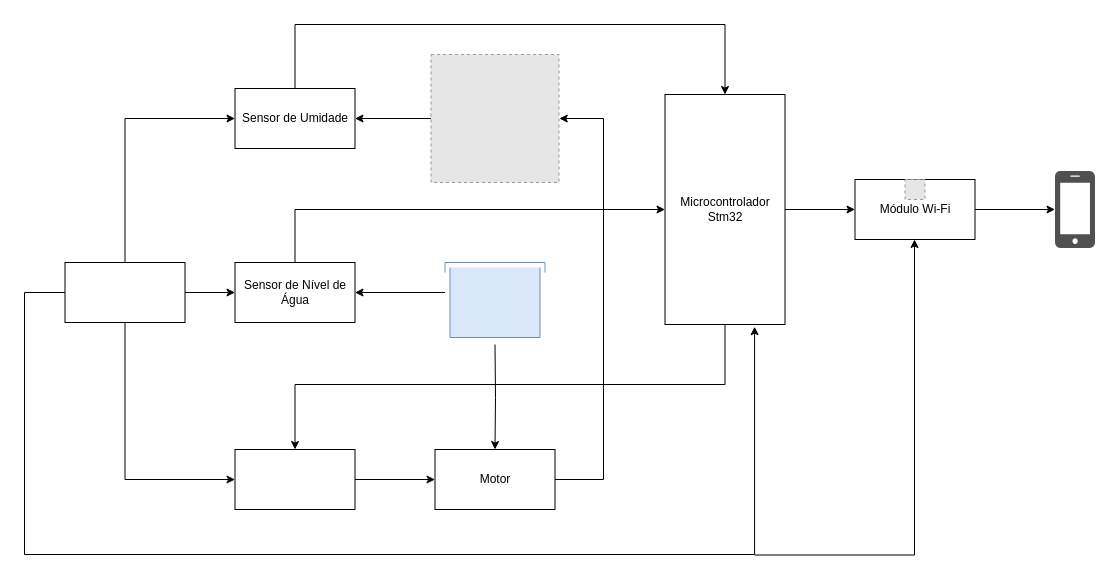
The diagram is 1112 pixels wide and 581 high, and some of its shapes have lost their labels. Grey dashed boxes stand in for pictures. Here are the shapes that lost their labels. From the top down, the centre of each, then its label:
At point (124, 292): "Alimentação".
At point (494, 300): "Reservatório de Água".
At point (294, 479): "Circuito de Acionamento do Motor".
